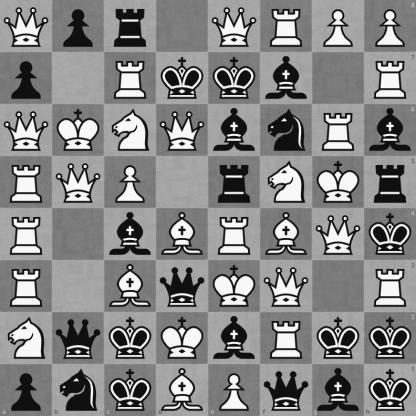B: (156, 364, 209, 416), (105, 261, 156, 312), (157, 209, 208, 260), (261, 209, 312, 260)
K: (53, 105, 104, 156), (157, 313, 208, 364), (209, 261, 260, 312), (313, 157, 364, 208)
N: (1, 313, 52, 364), (105, 105, 156, 156), (261, 157, 312, 208)
P: (364, 0, 416, 52), (209, 364, 260, 416), (105, 157, 156, 208), (313, 1, 364, 52)
Q: (1, 1, 52, 52), (1, 105, 52, 156), (53, 157, 104, 208), (157, 105, 208, 156), (209, 1, 260, 52), (261, 261, 312, 312), (313, 209, 364, 260)
R: (364, 52, 416, 104), (364, 260, 416, 312), (1, 157, 52, 208), (1, 209, 52, 260), (1, 261, 52, 312), (105, 53, 156, 104), (209, 209, 260, 260), (261, 1, 312, 52), (261, 313, 312, 364), (313, 105, 364, 156)
b: (312, 364, 364, 416), (364, 104, 416, 156), (105, 209, 156, 260), (209, 105, 260, 156), (209, 313, 260, 364), (261, 53, 312, 104)
board: (0, 0, 415, 415)
k: (104, 364, 156, 416), (364, 312, 416, 364), (364, 364, 416, 416), (364, 209, 416, 260), (105, 313, 156, 364), (157, 53, 208, 104), (209, 53, 260, 104), (313, 313, 364, 364)
n: (52, 364, 104, 416), (261, 105, 312, 156)
p: (0, 364, 52, 416), (1, 53, 52, 104), (53, 1, 104, 52)
q: (260, 364, 312, 416), (53, 313, 104, 364), (157, 261, 208, 312)
r: (364, 156, 416, 209), (105, 1, 156, 52), (209, 157, 260, 208)
